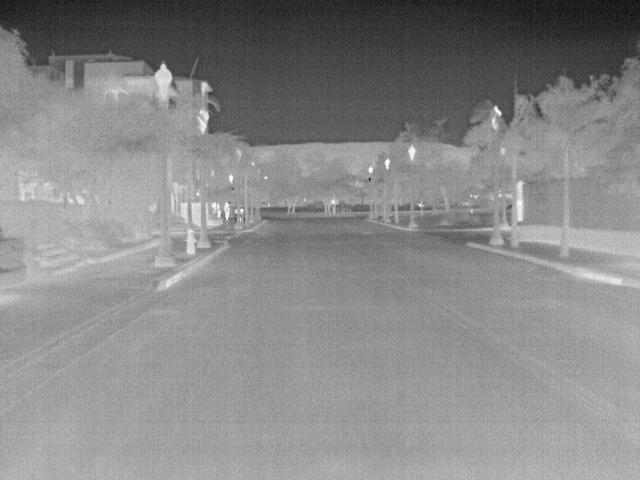person: (222, 200, 232, 222), (216, 204, 224, 218)
